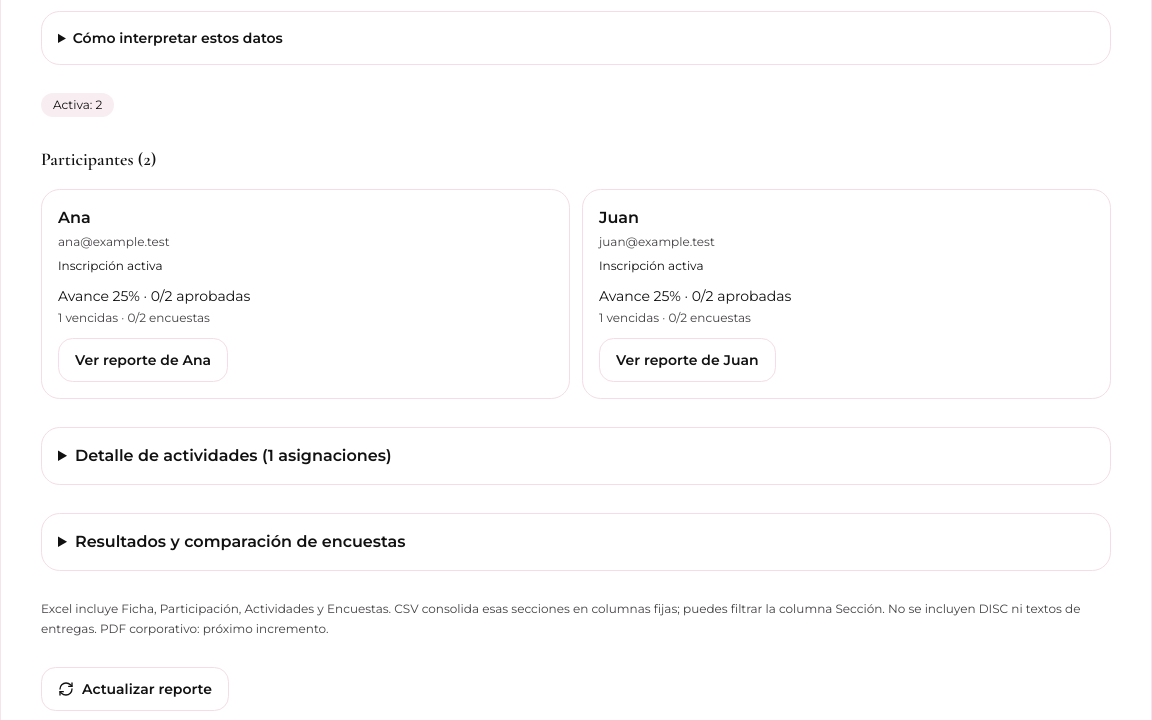
it: loads an individual report from the API and removes the previous general data immediately
(page scrolled)
What coordinates should you click on to do the following:
click the button "Ver reporte de Ana"
I would click on:
 (143, 360)
Its box is [58,338,228,382].
(page scrolled)
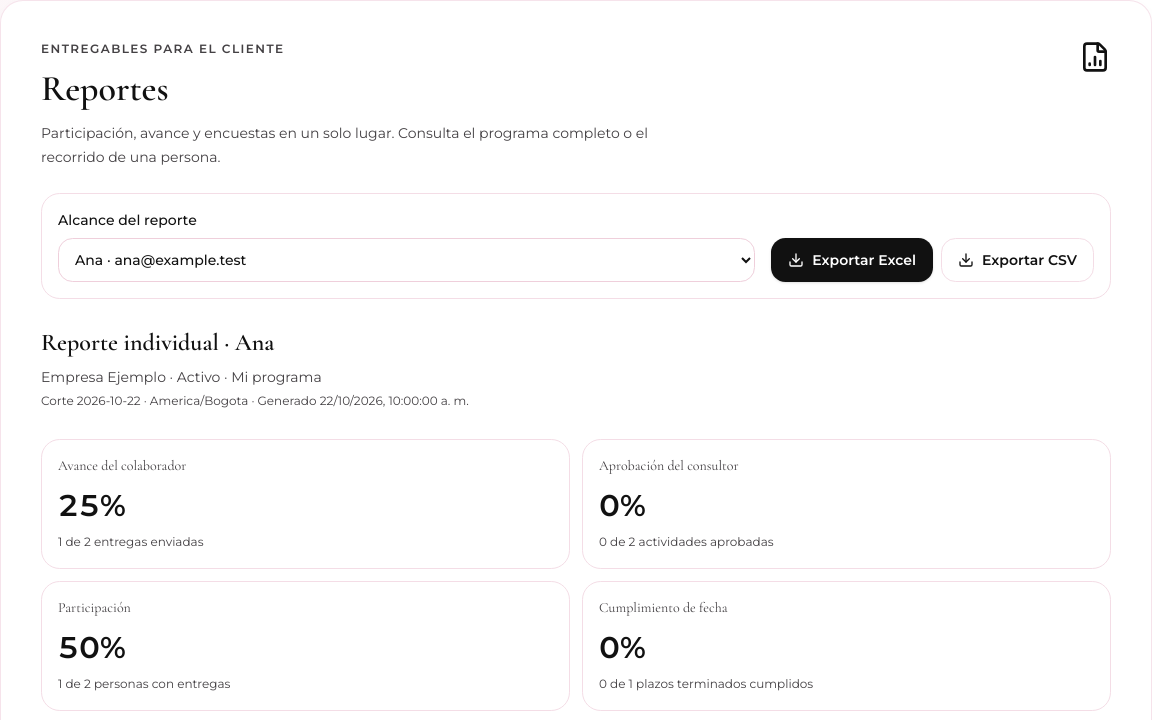
Result: the heading "Reporte individual · Ana" is shown at [41,328,274,357]
Result: the button "Ver reporte de Juan" is gone
